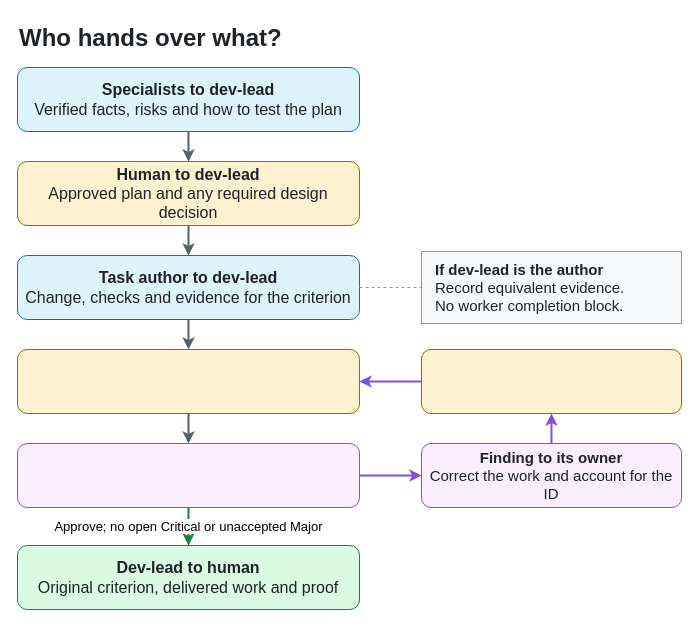
This 699x627 diagram has some shape labels left out. Each missing label, with the centre of its shape:
Combined test bar to dev-lead Command results for the exact content: (x=188, y=381)
Content changed Prior check results no longer suffice: (x=551, y=381)
Independent review to dev-lead One verdict and finding IDs by owner: (x=188, y=475)
